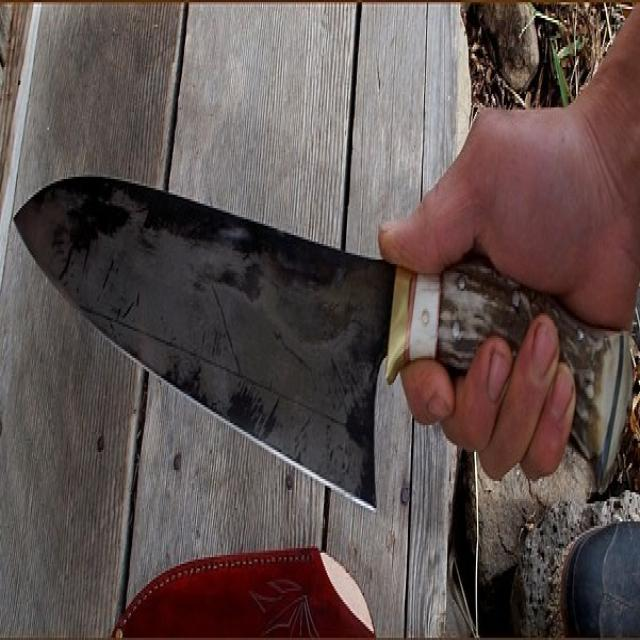knife: (12, 171, 638, 522)
